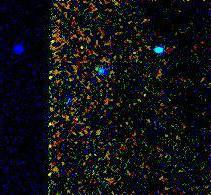star: (72, 30, 102, 60)
